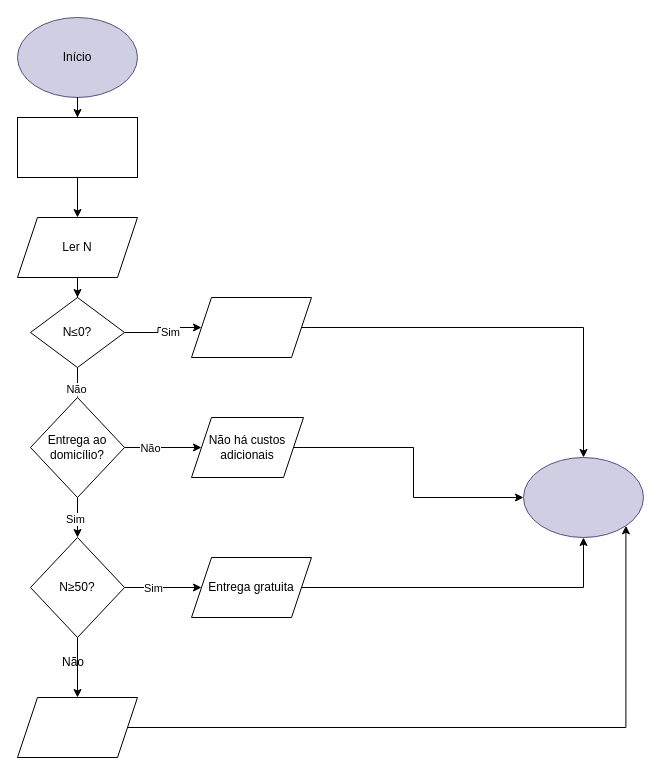
The diagram is 661 pixels wide and 775 high, and some of its shapes have lost their labels. The centre of each missing label's shape, as x and y in pixels:
Escrever:"Valor inválido": the point at 251,327
Fim: the point at 583,497
Soma= N+5: the point at 77,727
Soma=0: the point at 77,147
